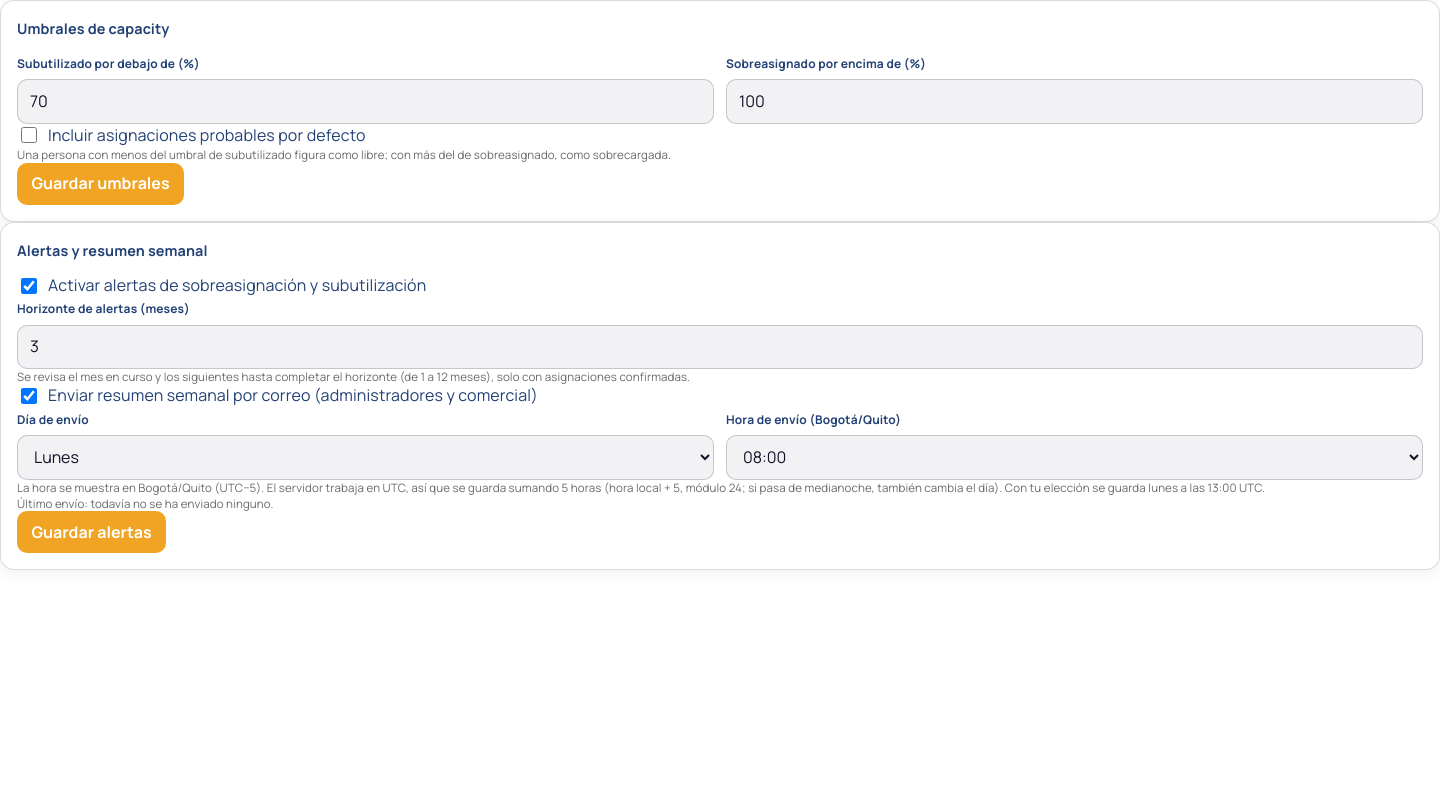
CapacityThresholdsSection: alertas y resumen semanal › no guarda un horizonte fuera de 1–12
Replace the text in the number field labelled "Horizonte de alertas (meses)" with "20" at (720, 347), box [17, 324, 1423, 369]
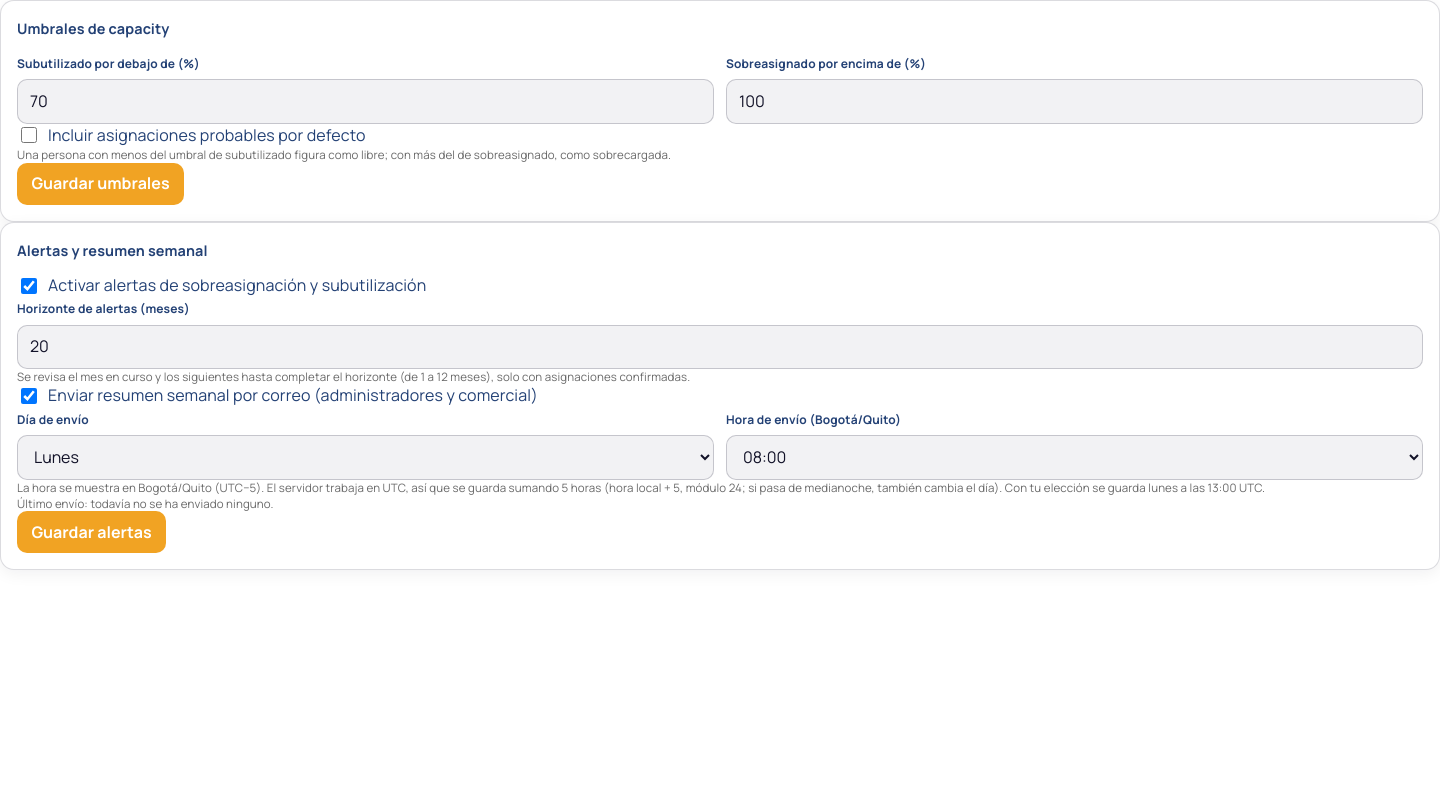
Click the button "Guardar alertas" at (92, 532), box [17, 511, 166, 554]
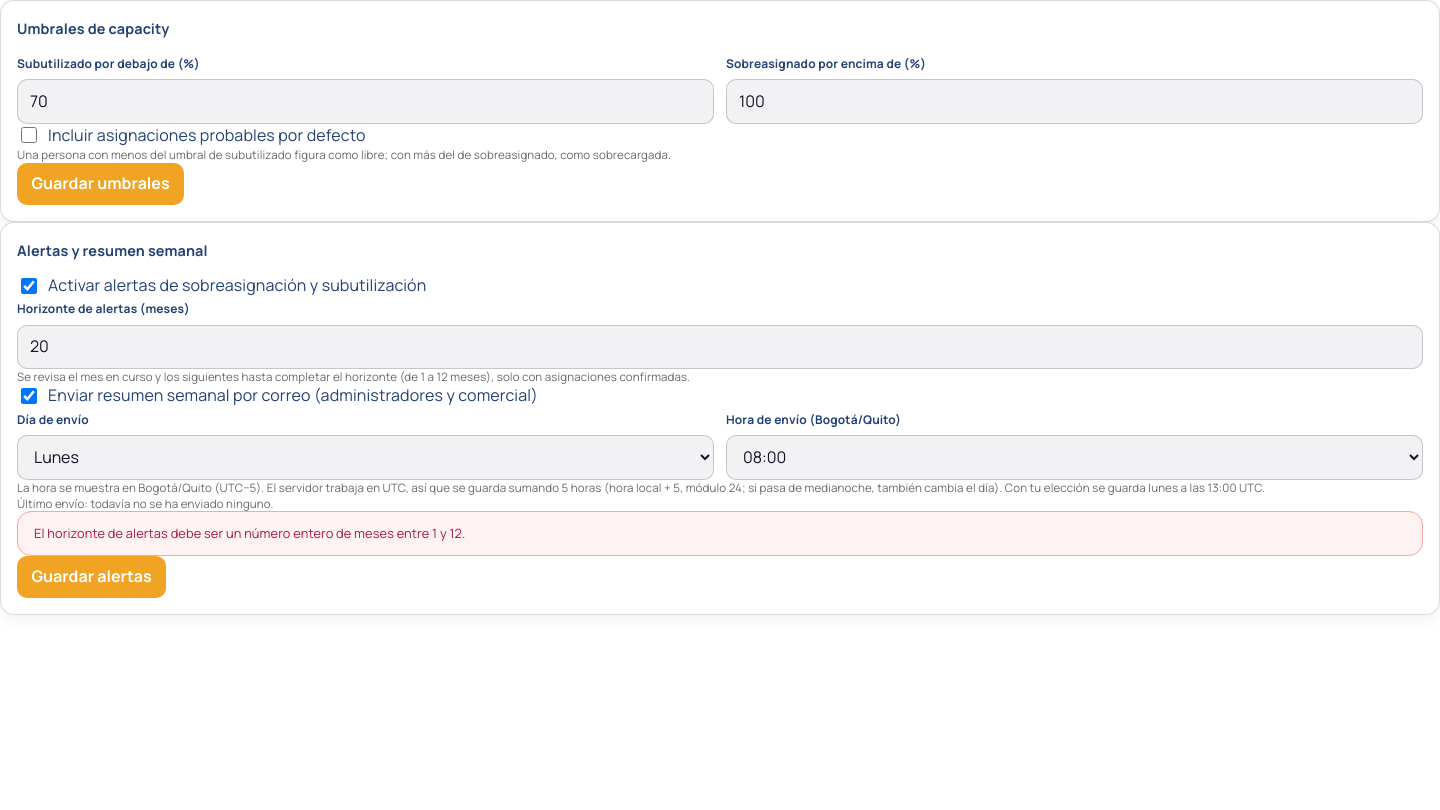
Expected: the message shows "entre 1 y 12", [34, 524, 465, 542]
